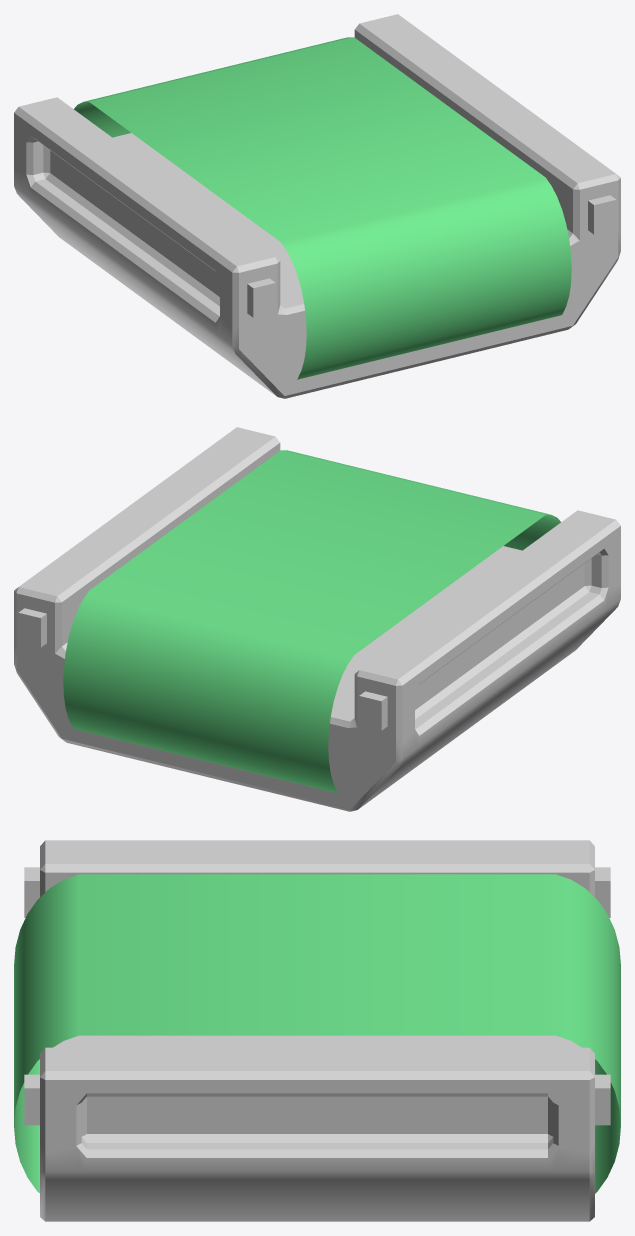
File: conveyorbelt.fbx
3 views of the same model, one above another, from view 1: azimuth 30°, elevation 25°; view 2: azimuth 150°, elevation 25°; view 3: azimuth 270°, elevation 25° (orthographic). The views are drawn at different scales.
Parts seen in each view (by area): view 1: Cube.003; view 2: Cube.003; view 3: Cube.003.
Part boxes in pixels (box(x1,y1,x2,y2)): Cube.003: box(14, 14, 620, 398); Cube.003: box(14, 427, 620, 811); Cube.003: box(14, 840, 620, 1221).
Size of the model in its own units: 1.5 by 0.5348 by 1.63.
